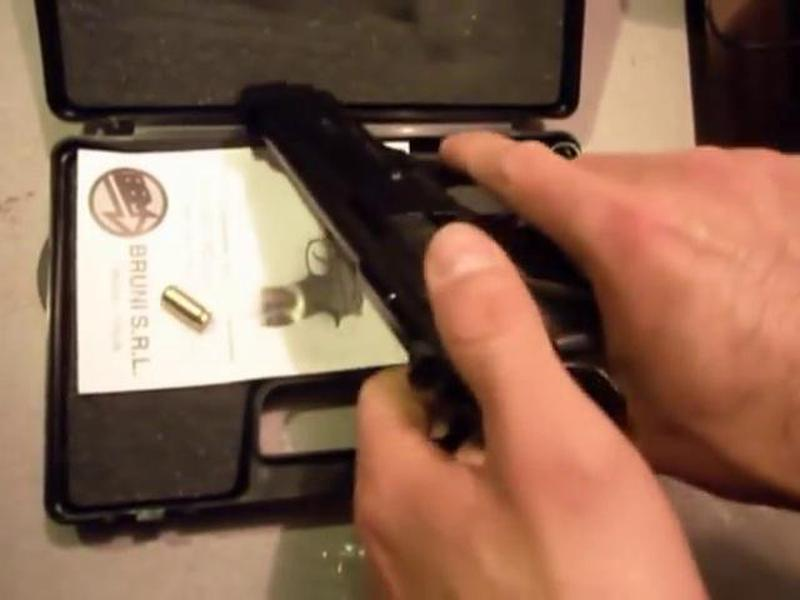Pistola: (221, 55, 647, 476)
